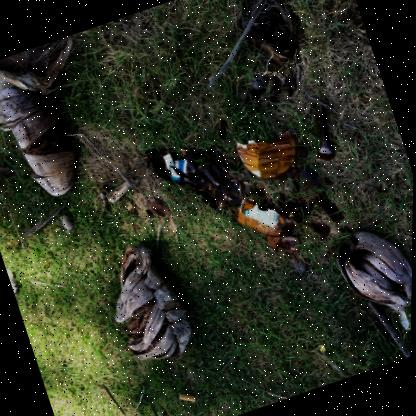Glass: (147, 127, 344, 257), (315, 109, 335, 161), (302, 223, 329, 238)
Waste: (181, 394, 196, 402)
